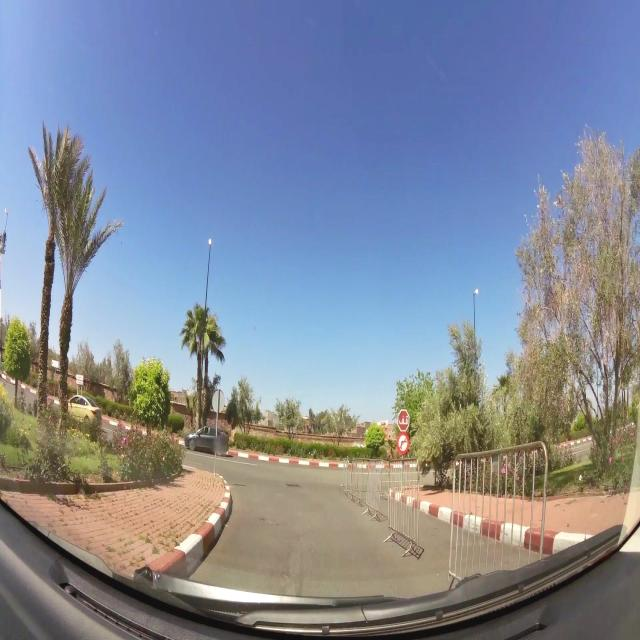car: (185, 426, 230, 454), (67, 393, 101, 424)
